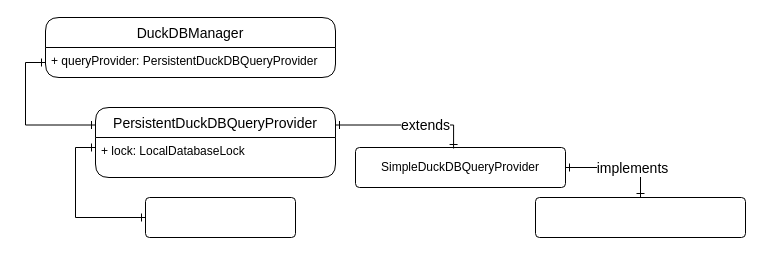
Some shapes in this 763 by 255 pixel diagram are drawn without their labels. The shapes that lost their labels are listed below. From the top down, each one's box as (x1, y1, x2, y2) in pixels, then its label:
(144, 196, 296, 238): LocalDatabaseLock
(534, 196, 746, 238): DatabaseQueryProvider
